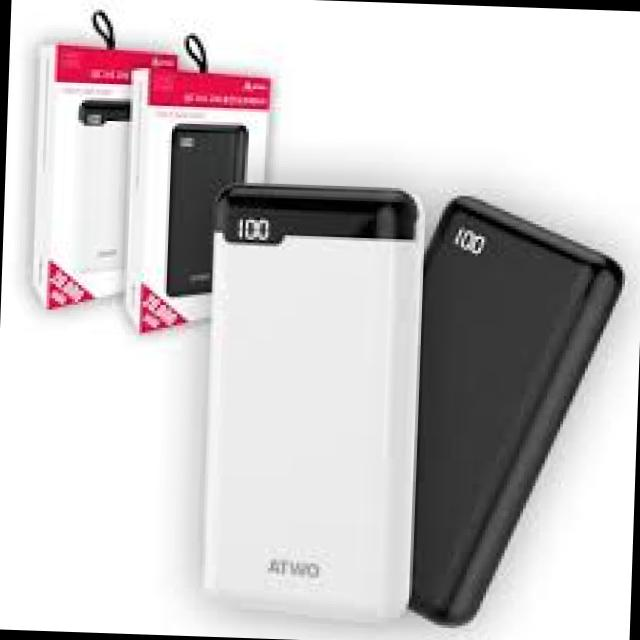portable-charger: (202, 180, 430, 630), (412, 194, 626, 640), (164, 122, 250, 304), (74, 99, 138, 275)
